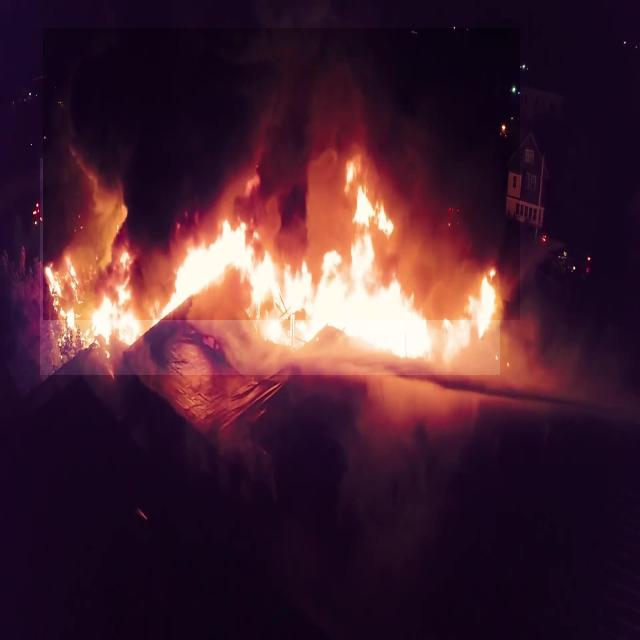Fire: (40, 158, 500, 375)
Smoke: (43, 28, 520, 320)
